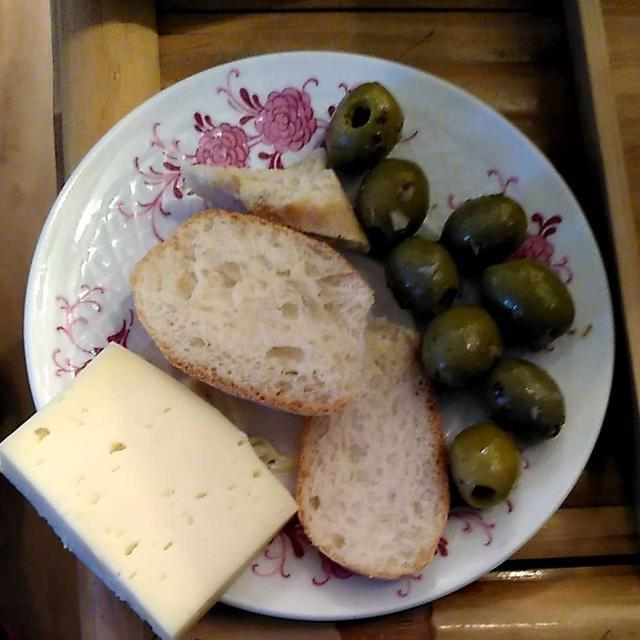bread: (137, 171, 454, 571)
cheese: (8, 335, 301, 632)
green-olives: (329, 75, 571, 519)
